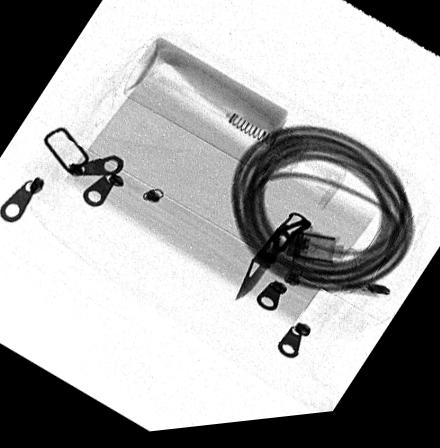Knife: (232, 217, 312, 306)
